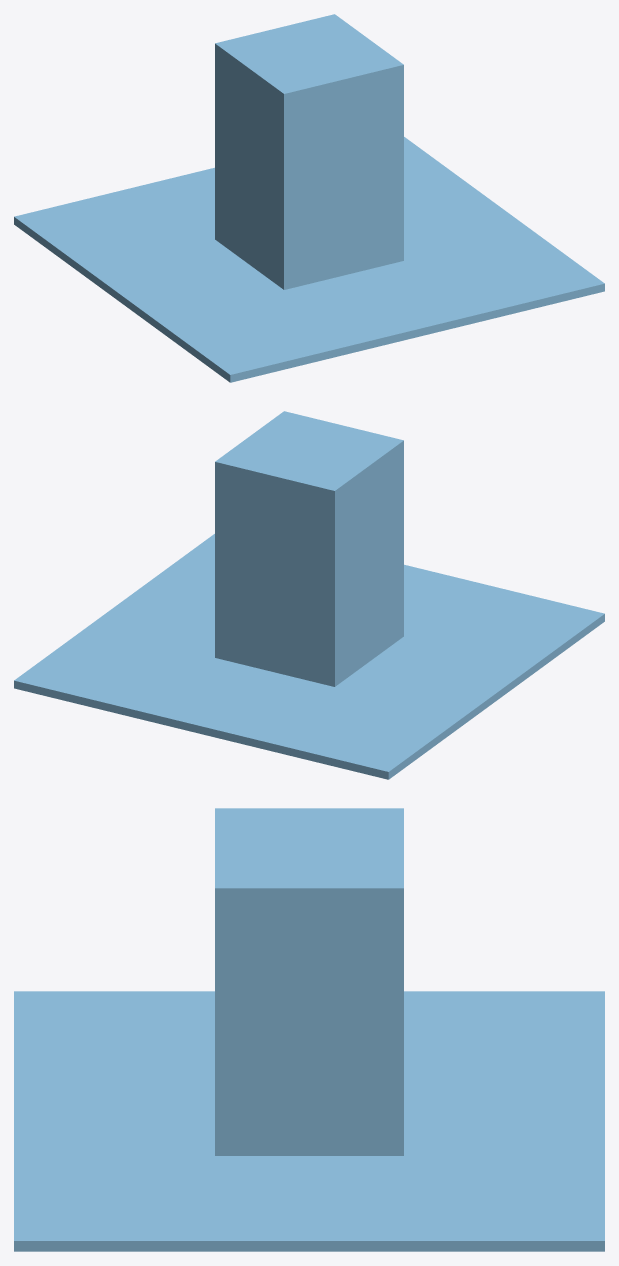
3 renders of one model, top to bottom at view 1: azimuth 30°, elevation 25°; view 2: azimuth 150°, elevation 25°; view 3: azimuth 270°, elevation 25°, orthographic. The views are drawn at different scales.
Parts seen in each view (by area): view 1: Quarter 0 1, Tower 0 1; view 2: Quarter 0 1, Tower 0 1; view 3: Quarter 0 1, Tower 0 1.
Part boxes in pixels (box(x1,y1,x2,y2)): Quarter 0 1: box(14, 137, 604, 382); Tower 0 1: box(215, 14, 403, 289); Quarter 0 1: box(14, 534, 604, 779); Tower 0 1: box(215, 411, 403, 686); Quarter 0 1: box(14, 991, 604, 1251); Tower 0 1: box(215, 808, 403, 1155).
Bounding box in the file's own units: 50 × 26 × 50.
